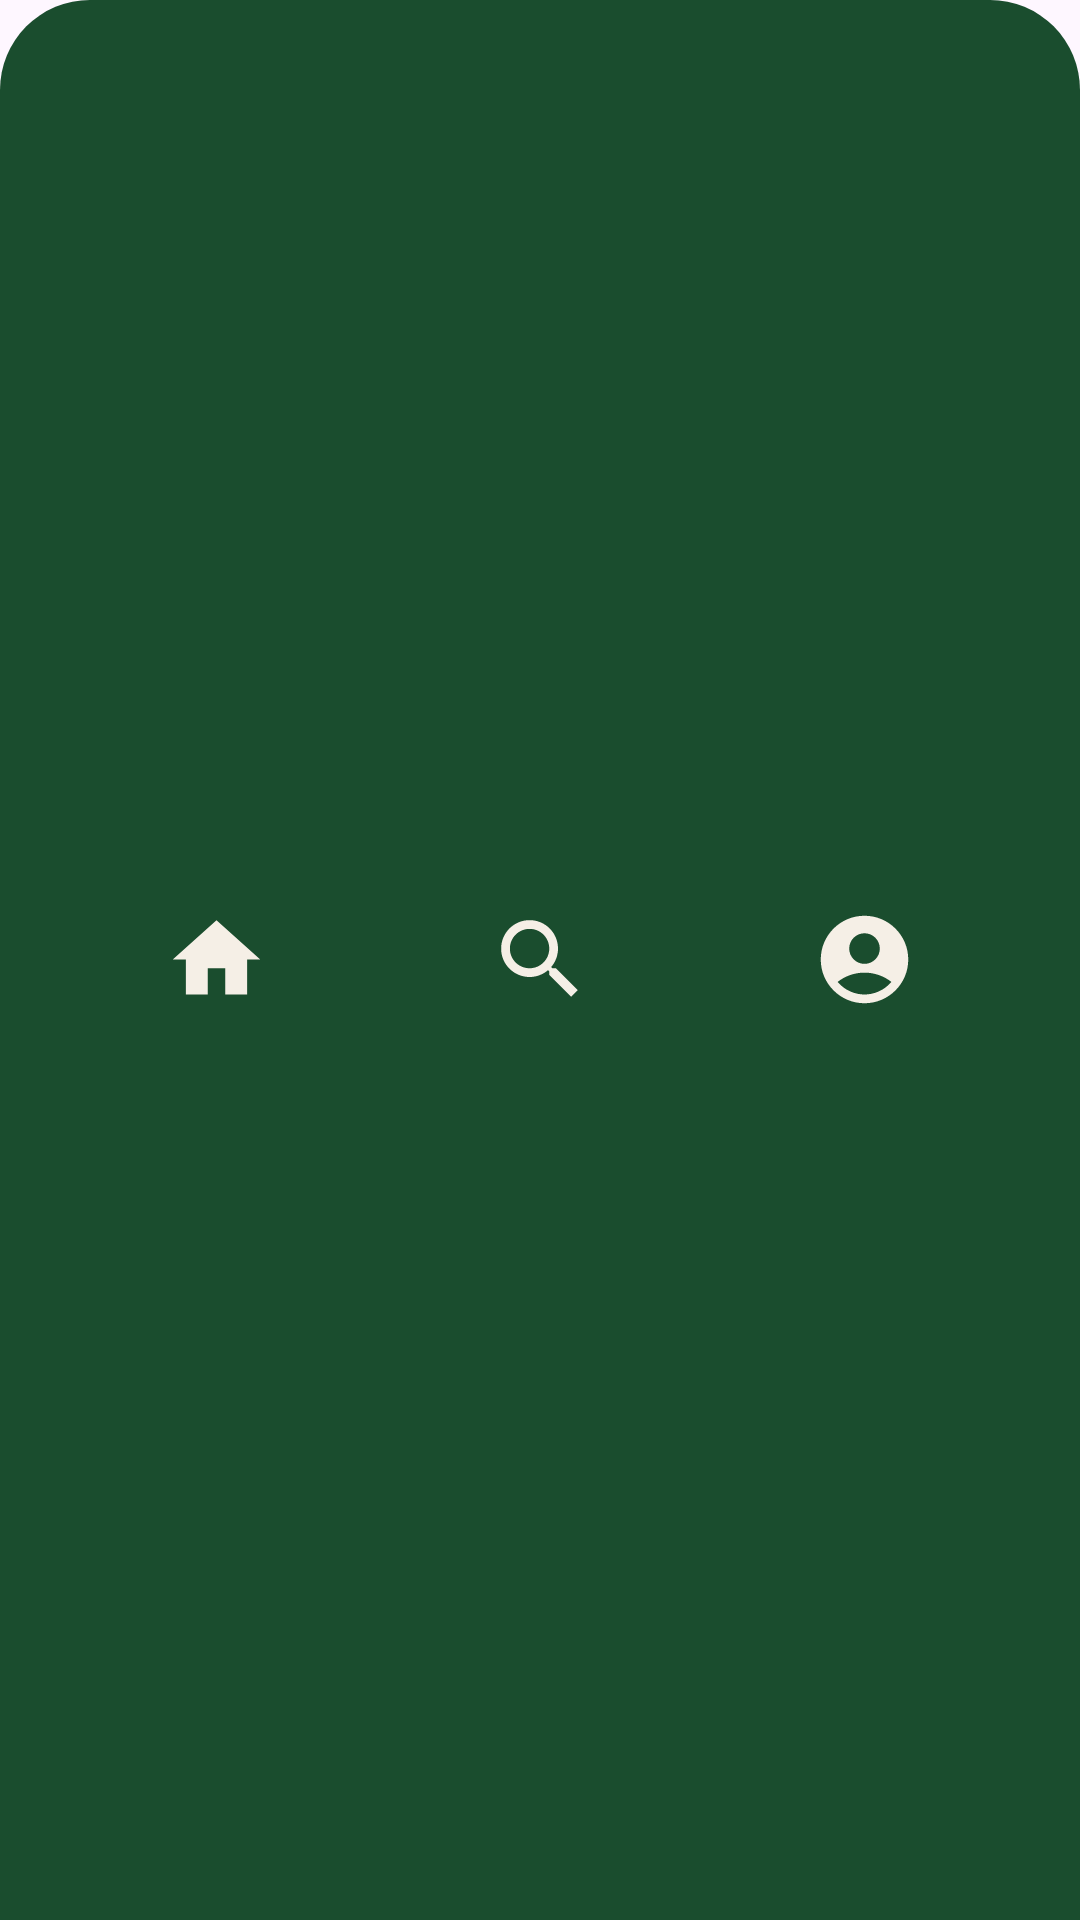

Screen size 1080w x 1920h. Icon name, then its center in pixels as point (x, y):
account circle: point (864, 959)
home: point (216, 957)
search: point (539, 958)
